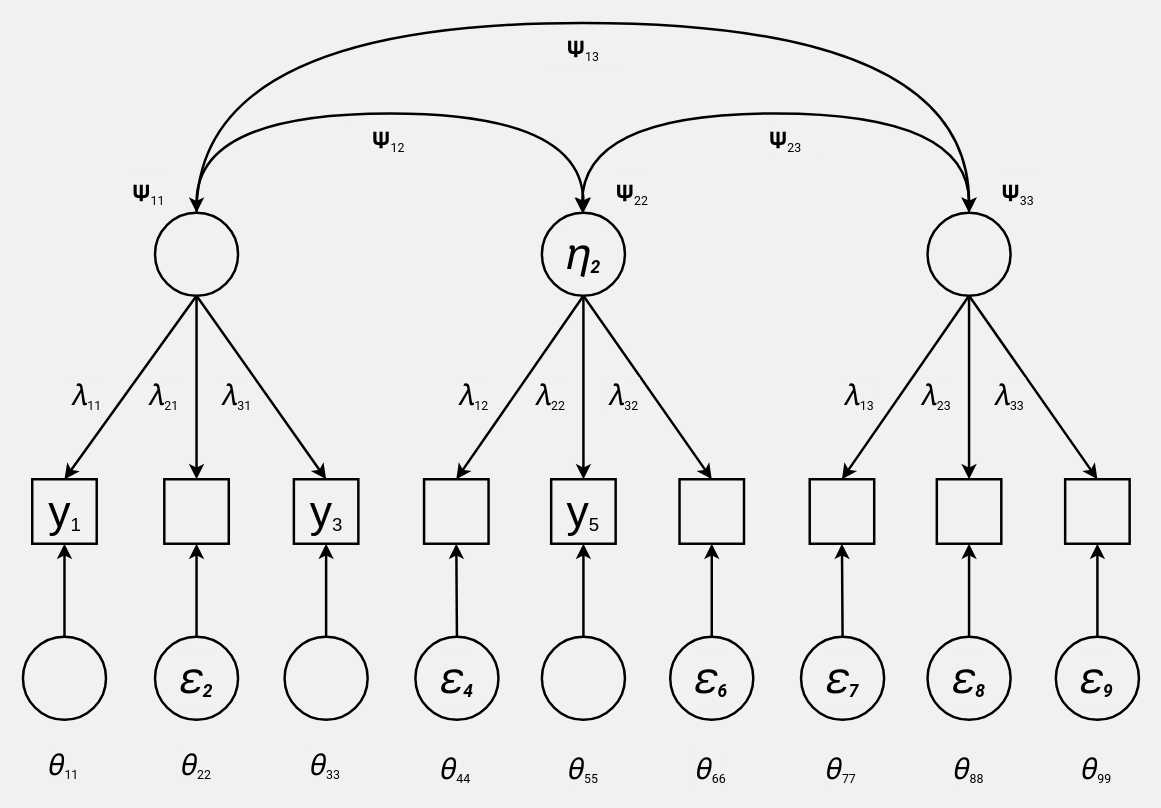
Some shapes in this 1161 by 808 pixel diagram are drawn without their labels. The centre of each missing label's shape, as x and y in pixels:
y 2: point (195, 510)
y 4: point (455, 510)
y 6: point (711, 510)
y 7: point (841, 510)
y 8: point (968, 510)
y 9: point (1096, 510)
𝜀 1: point (64, 677)
𝜀 3: point (325, 677)
𝜀 5: point (583, 677)
𝜂 1: point (196, 253)
𝜂 3: point (968, 253)
